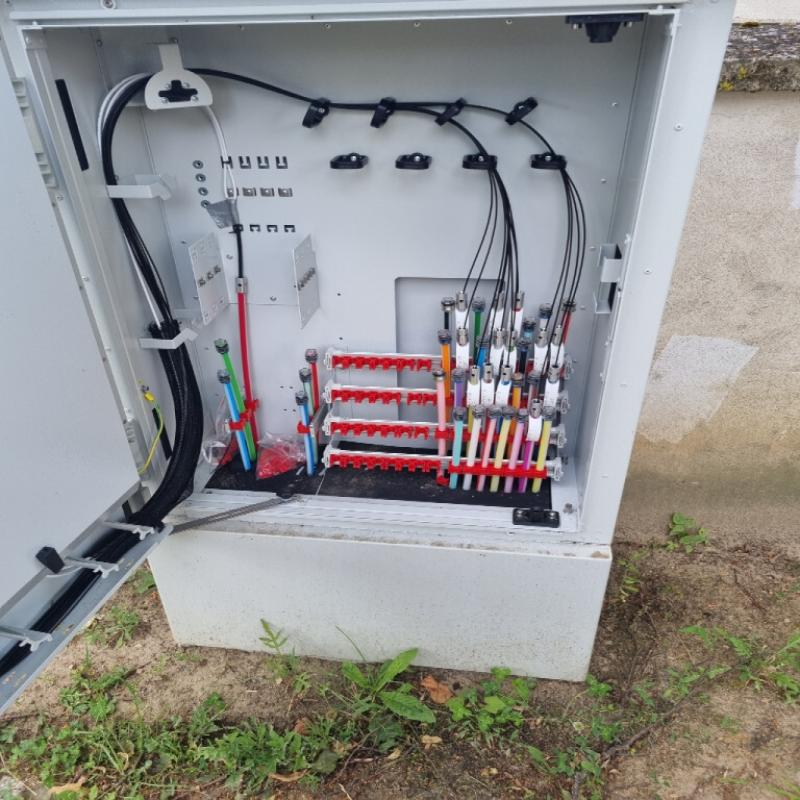NT-Gehause: (5, 3, 740, 682)
